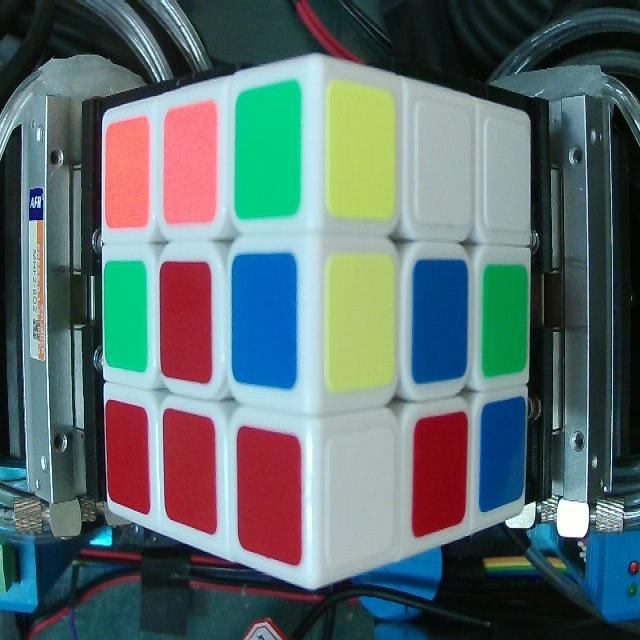b: (235, 261, 294, 381), (416, 264, 464, 375), (486, 409, 524, 495)
g: (239, 97, 296, 210), (485, 268, 526, 368), (104, 268, 146, 363)
o: (164, 115, 216, 220), (106, 126, 148, 225)
r: (237, 434, 302, 556), (162, 267, 210, 377), (165, 426, 214, 523), (416, 430, 464, 518), (107, 412, 147, 508)
w: (330, 446, 394, 551), (422, 115, 470, 221), (488, 123, 528, 226)
y: (328, 91, 394, 215), (329, 259, 390, 384)
